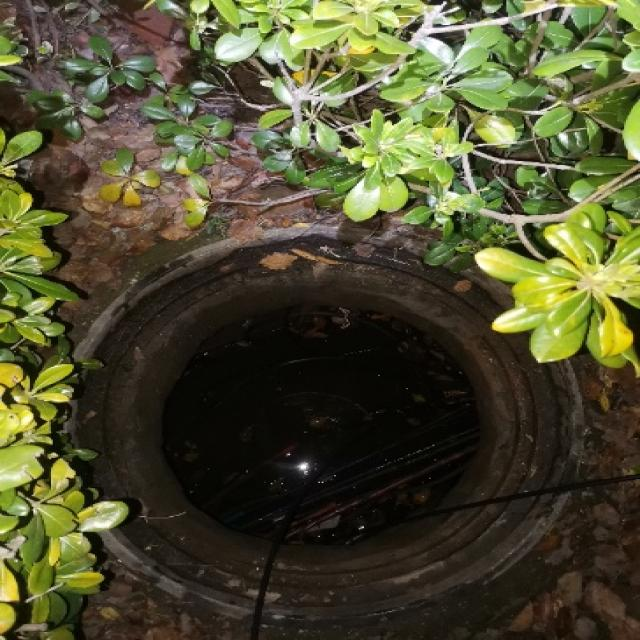Uncovered: (38, 215, 602, 640)
